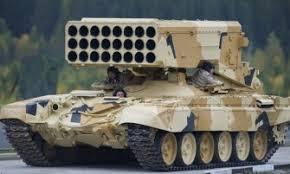MIL_SAM_TEL: (0, 16, 290, 166)
